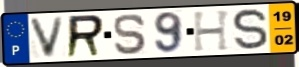9: (152, 10, 186, 55)
H: (191, 9, 233, 53)
R: (64, 13, 106, 60)
S: (231, 7, 271, 52), (112, 13, 149, 56)
V: (27, 15, 67, 59)
